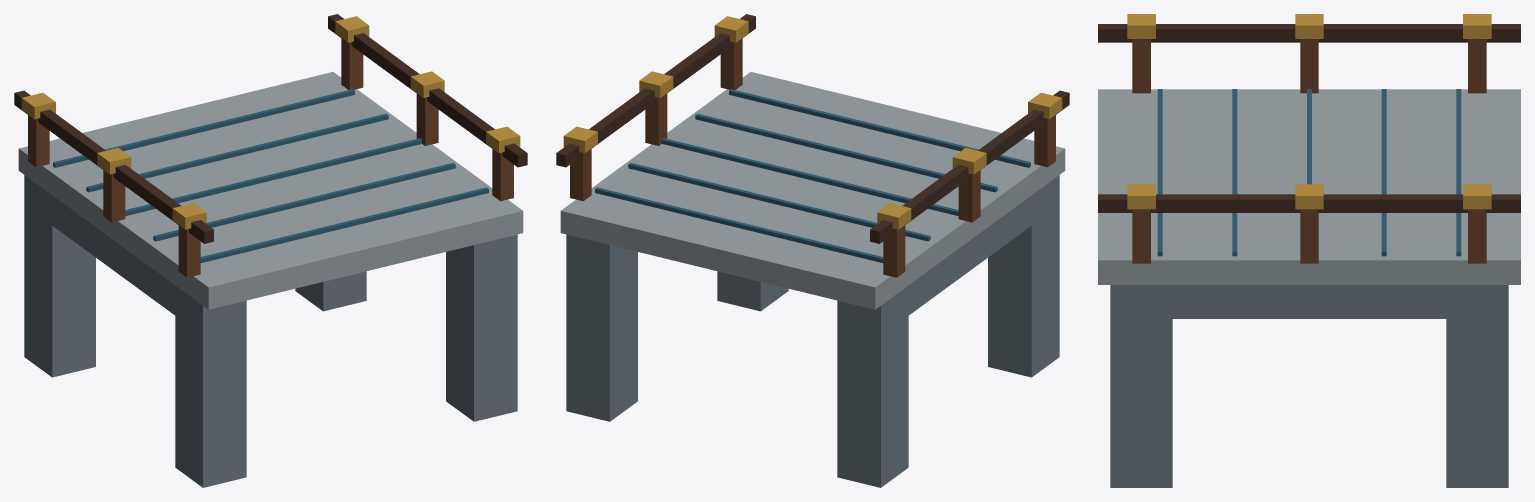
The model's file is Blockland_TerraceBridge_Showcase.glb.
3 views of the same model, side by side, from view 1: azimuth 30°, elevation 25°; view 2: azimuth 150°, elevation 25°; view 3: azimuth 270°, elevation 25° (orthographic). The views are drawn at different scales.
Visible parts, largest first — view 1: Blockland_TerraceBridge_Showcase; view 2: Blockland_TerraceBridge_Showcase; view 3: Blockland_TerraceBridge_Showcase.
Part boxes in pixels (<box>): Blockland_TerraceBridge_Showcase: <box>14,14,527,487</box>; Blockland_TerraceBridge_Showcase: <box>556,14,1069,487</box>; Blockland_TerraceBridge_Showcase: <box>1098,14,1520,487</box>.
Size of the model in its own units: 3.46 by 2.64 by 3.4.
